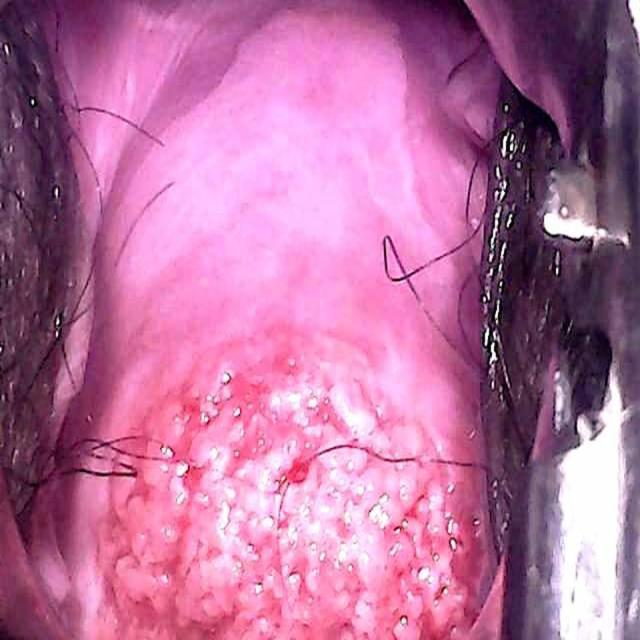cervical_lesion: (64, 283, 527, 640)
